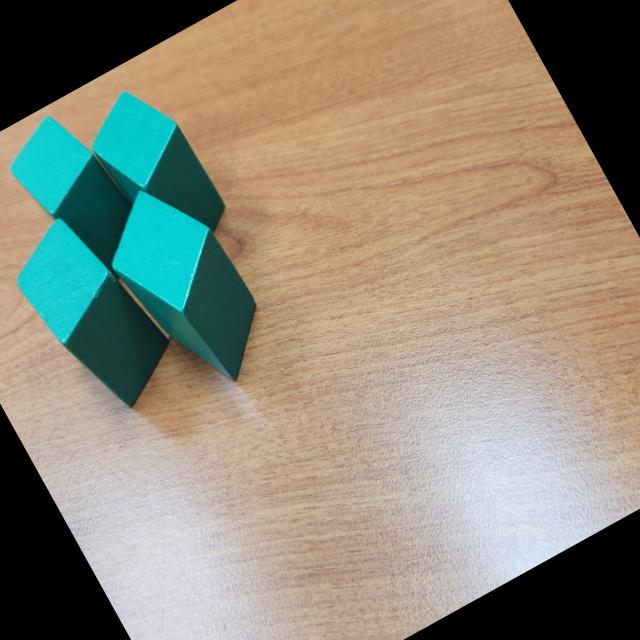green: (86, 167, 286, 407), (0, 199, 190, 428), (0, 100, 161, 300), (73, 74, 236, 268)
